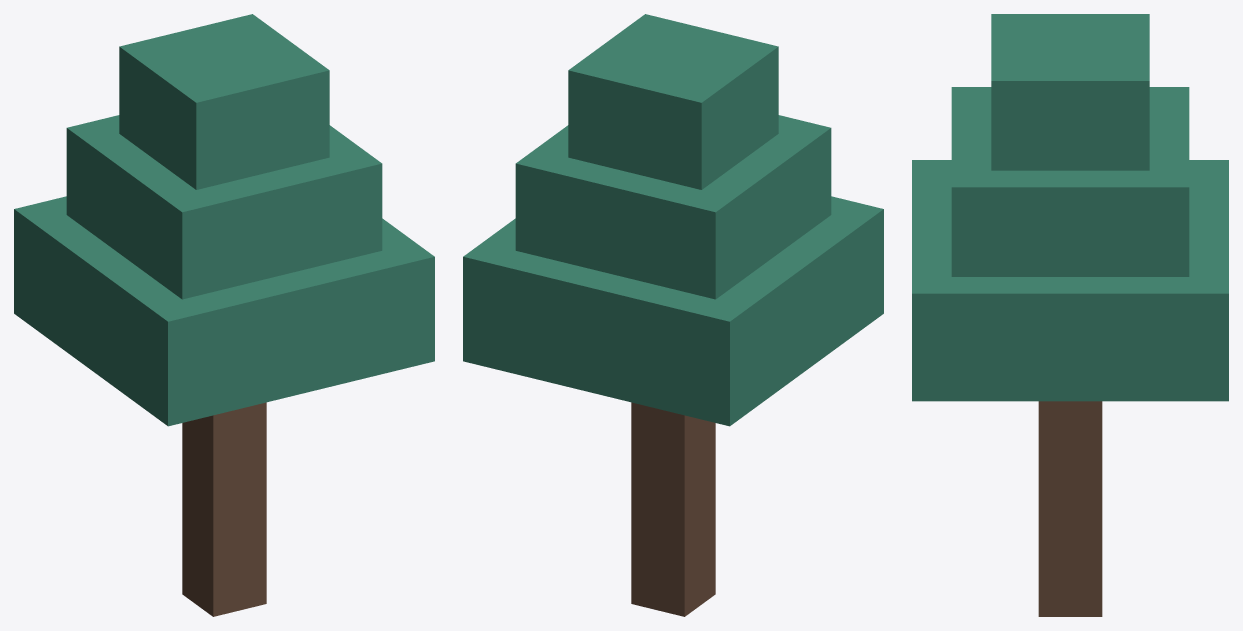
The model's file is voxel-tree.glb.
3 renders of one model, left to right at view 1: azimuth 30°, elevation 25°; view 2: azimuth 150°, elevation 25°; view 3: azimuth 270°, elevation 25°, orthographic. The views are drawn at different scales.
Parts seen in each view (by area): view 1: voxel-crown, voxel-crown.001, voxel-crown.002, voxel-trunk; view 2: voxel-crown, voxel-crown.001, voxel-crown.002, voxel-trunk; view 3: voxel-crown, voxel-crown.001, voxel-crown.002, voxel-trunk.
Boxes of the visible parts, box(x1,y1,x2,y2) form: voxel-crown: box(14, 196, 434, 426); voxel-crown.001: box(66, 115, 382, 299); voxel-crown.002: box(119, 14, 329, 189); voxel-trunk: box(182, 402, 266, 616); voxel-crown: box(463, 196, 883, 426); voxel-crown.001: box(515, 115, 831, 299); voxel-crown.002: box(568, 14, 778, 189); voxel-trunk: box(631, 402, 715, 616); voxel-crown: box(912, 160, 1228, 401); voxel-crown.001: box(951, 87, 1189, 276); voxel-crown.002: box(991, 14, 1149, 170); voxel-trunk: box(1038, 401, 1102, 616).
Bounding box in the file's own units: 1.6 × 3.1 × 1.6.
